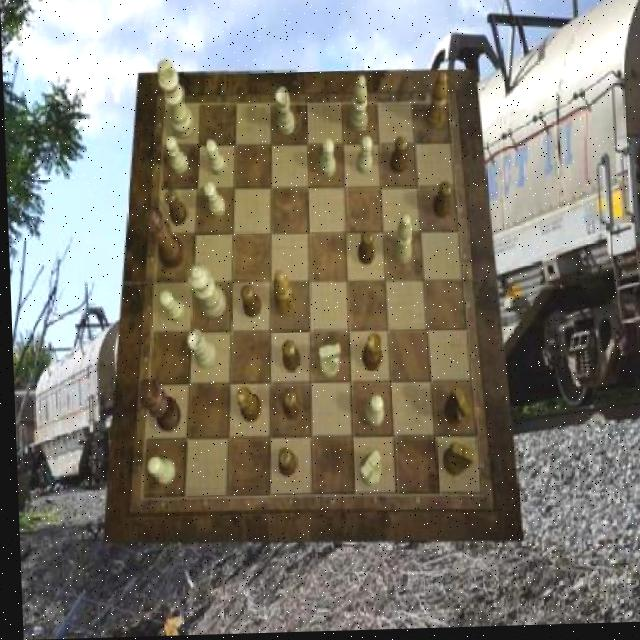bishop: (424, 74, 449, 132), (271, 272, 293, 318)
black-bishop: (137, 378, 179, 433)
black-king: (439, 445, 473, 480), (441, 389, 469, 430)
black-knight: (164, 188, 186, 226), (432, 185, 453, 222), (389, 138, 408, 176), (239, 285, 260, 319), (354, 232, 373, 268), (279, 341, 298, 374), (279, 390, 298, 422), (275, 449, 295, 478)
black-pawn: (140, 207, 184, 269)
black-queen: (235, 387, 260, 423), (359, 335, 380, 373)
black-rook: (347, 78, 366, 136), (390, 217, 411, 267)
white-bishop: (157, 60, 195, 141)
white-king: (356, 453, 380, 490), (315, 345, 339, 380)
white-knight: (164, 137, 188, 177), (158, 291, 183, 324), (144, 458, 172, 486), (202, 183, 223, 218), (204, 141, 225, 176), (355, 138, 373, 176), (317, 140, 334, 179), (363, 398, 381, 431)
white-pawn: (185, 265, 224, 321)
white-queen: (185, 331, 214, 370), (274, 91, 294, 138)
